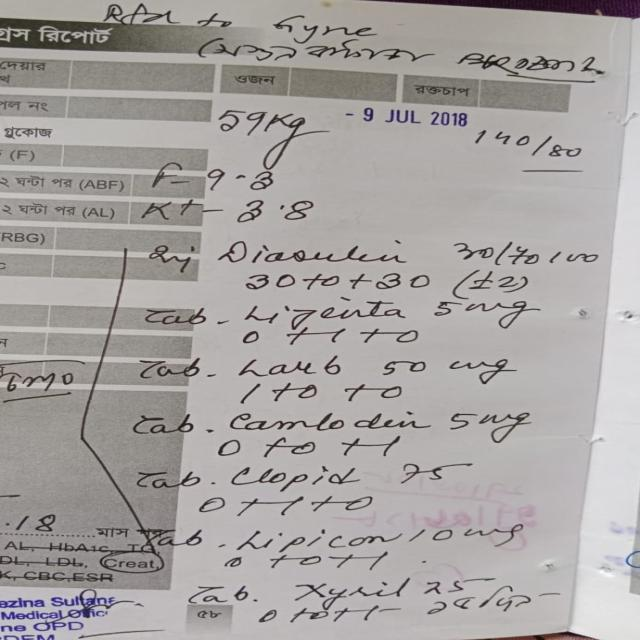Camlodin: (215, 405, 434, 439)
Clopid: (220, 460, 375, 492)
Diasulin: (209, 232, 424, 275)
Larb: (223, 351, 354, 384)
Lijenta: (229, 295, 421, 334)
Lipicon: (225, 525, 419, 556)
Xyril: (285, 573, 424, 606)
